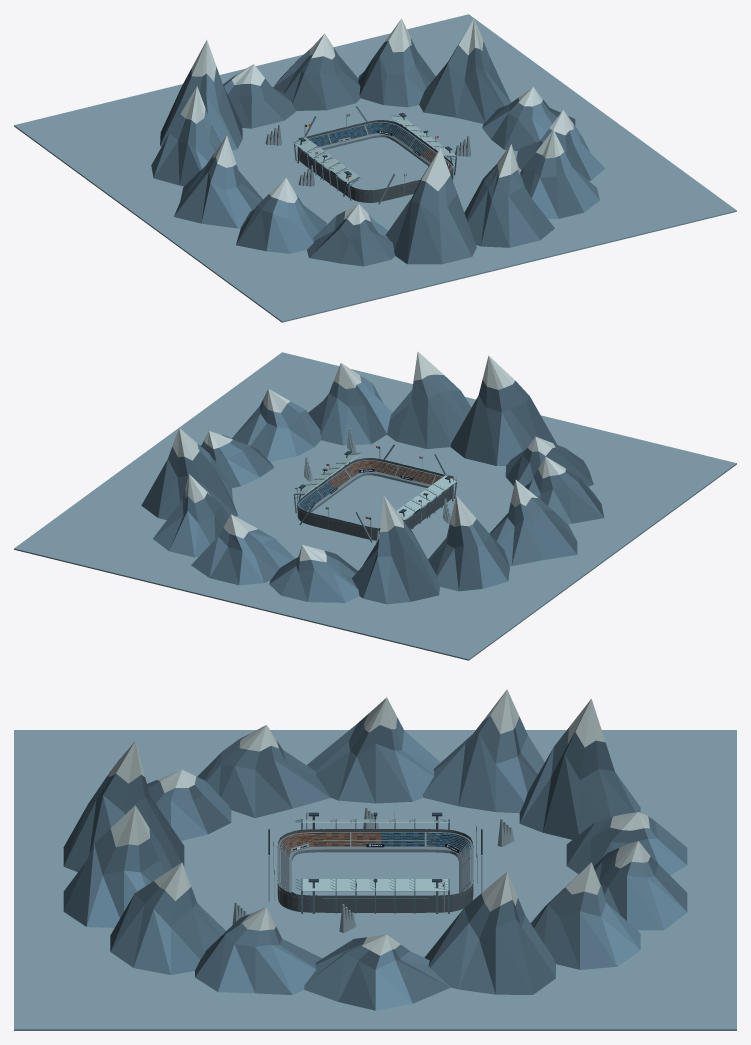
File: glacier-v2.glb
3 views of the same model, one above another, from view 1: azimuth 30°, elevation 25°; view 2: azimuth 150°, elevation 25°; view 3: azimuth 270°, elevation 25° (orthographic). The views are drawn at different scales.
Visible parts, largest first — view 1: Arena architecture / glacier; view 2: Arena architecture / glacier; view 3: Arena architecture / glacier.
Boxes of the visible parts, x1,y1,x2,y2 form: Arena architecture / glacier: [14, 14, 736, 322]; Arena architecture / glacier: [14, 351, 736, 660]; Arena architecture / glacier: [14, 689, 736, 1030].
Bounding box in the file's own units: 61300 × 11910 × 62600.
4 materials, 2 textured.
